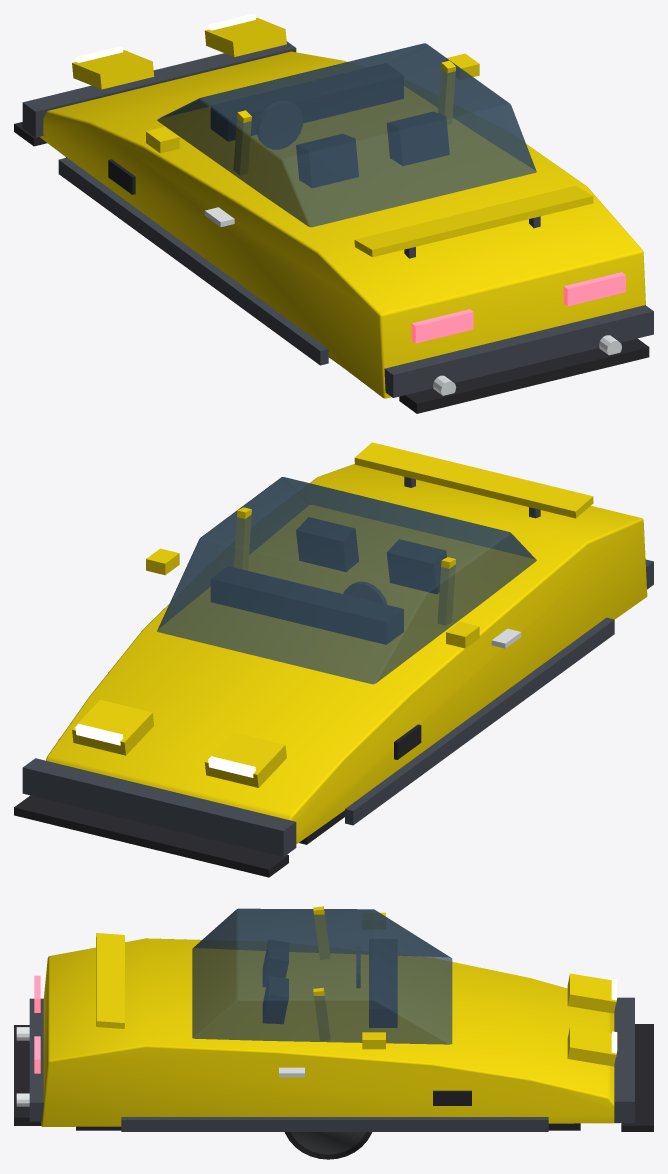
The model's file is shogun.glb.
3 views of the same model, one above another, from view 1: azimuth 30°, elevation 25°; view 2: azimuth 150°, elevation 25°; view 3: azimuth 270°, elevation 25° (orthographic). The views are drawn at different scales.
Parts seen in each view (by area): view 1: body_shell, cabin_glass, rear_bumper, skirt_L, dashboard, spoiler_wing, rear_diffuser, front_bumper, seat_back_L, seat_back_R, head_housing_L, head_housing_R (+7 smaller); view 2: body_shell, cabin_glass, front_bumper, dashboard, front_splitter, skirt_L, spoiler_wing, seat_back_R, head_housing_L, head_housing_R, seat_back_L, pillar_L (+3 smaller); view 3: body_shell, cabin_glass, skirt_R, spoiler_wing, dashboard, front_bumper, front_splitter, rear_bumper, head_housing_R, head_housing_L, rear_diffuser, wheel_fl_sidewall (+8 smaller).
Boxes of the visible parts, x1,y1,x2,y2 form: body_shell: [40, 51, 645, 398]; cabin_glass: [157, 43, 536, 227]; rear_bumper: [384, 305, 653, 397]; skirt_L: [58, 157, 328, 365]; dashboard: [211, 63, 403, 141]; spoiler_wing: [354, 185, 593, 257]; rear_diffuser: [399, 338, 649, 413]; front_bumper: [22, 41, 296, 137]; seat_back_L: [296, 134, 358, 187]; seat_back_R: [387, 112, 449, 165]; head_housing_L: [72, 50, 154, 89]; head_housing_R: [204, 17, 286, 56]; body_shell: [46, 463, 647, 844]; cabin_glass: [157, 477, 536, 684]; front_bumper: [22, 758, 296, 856]; dashboard: [211, 566, 403, 644]; front_splitter: [14, 795, 288, 877]; skirt_L: [345, 617, 614, 825]; spoiler_wing: [354, 442, 593, 518]; seat_back_R: [296, 517, 358, 571]; head_housing_L: [204, 732, 286, 787]; head_housing_R: [72, 699, 154, 755]; seat_back_L: [387, 539, 446, 593]; pillar_L: [438, 557, 455, 625]; body_shell: [41, 938, 619, 1126]; cabin_glass: [192, 908, 452, 1044]; skirt_R: [121, 1117, 548, 1131]; spoiler_wing: [96, 933, 124, 1028]; dashboard: [369, 939, 397, 1027]; front_bumper: [614, 997, 634, 1122]; front_splitter: [621, 1024, 653, 1131]; rear_bumper: [29, 998, 43, 1121]; head_housing_R: [567, 1026, 616, 1066]; head_housing_L: [567, 973, 616, 1013]; rear_diffuser: [14, 1025, 41, 1125]; wheel_fl_sidewall: [291, 1132, 365, 1154].
Bounding box in the file's own units: 2.31 × 1.72 × 4.9.
